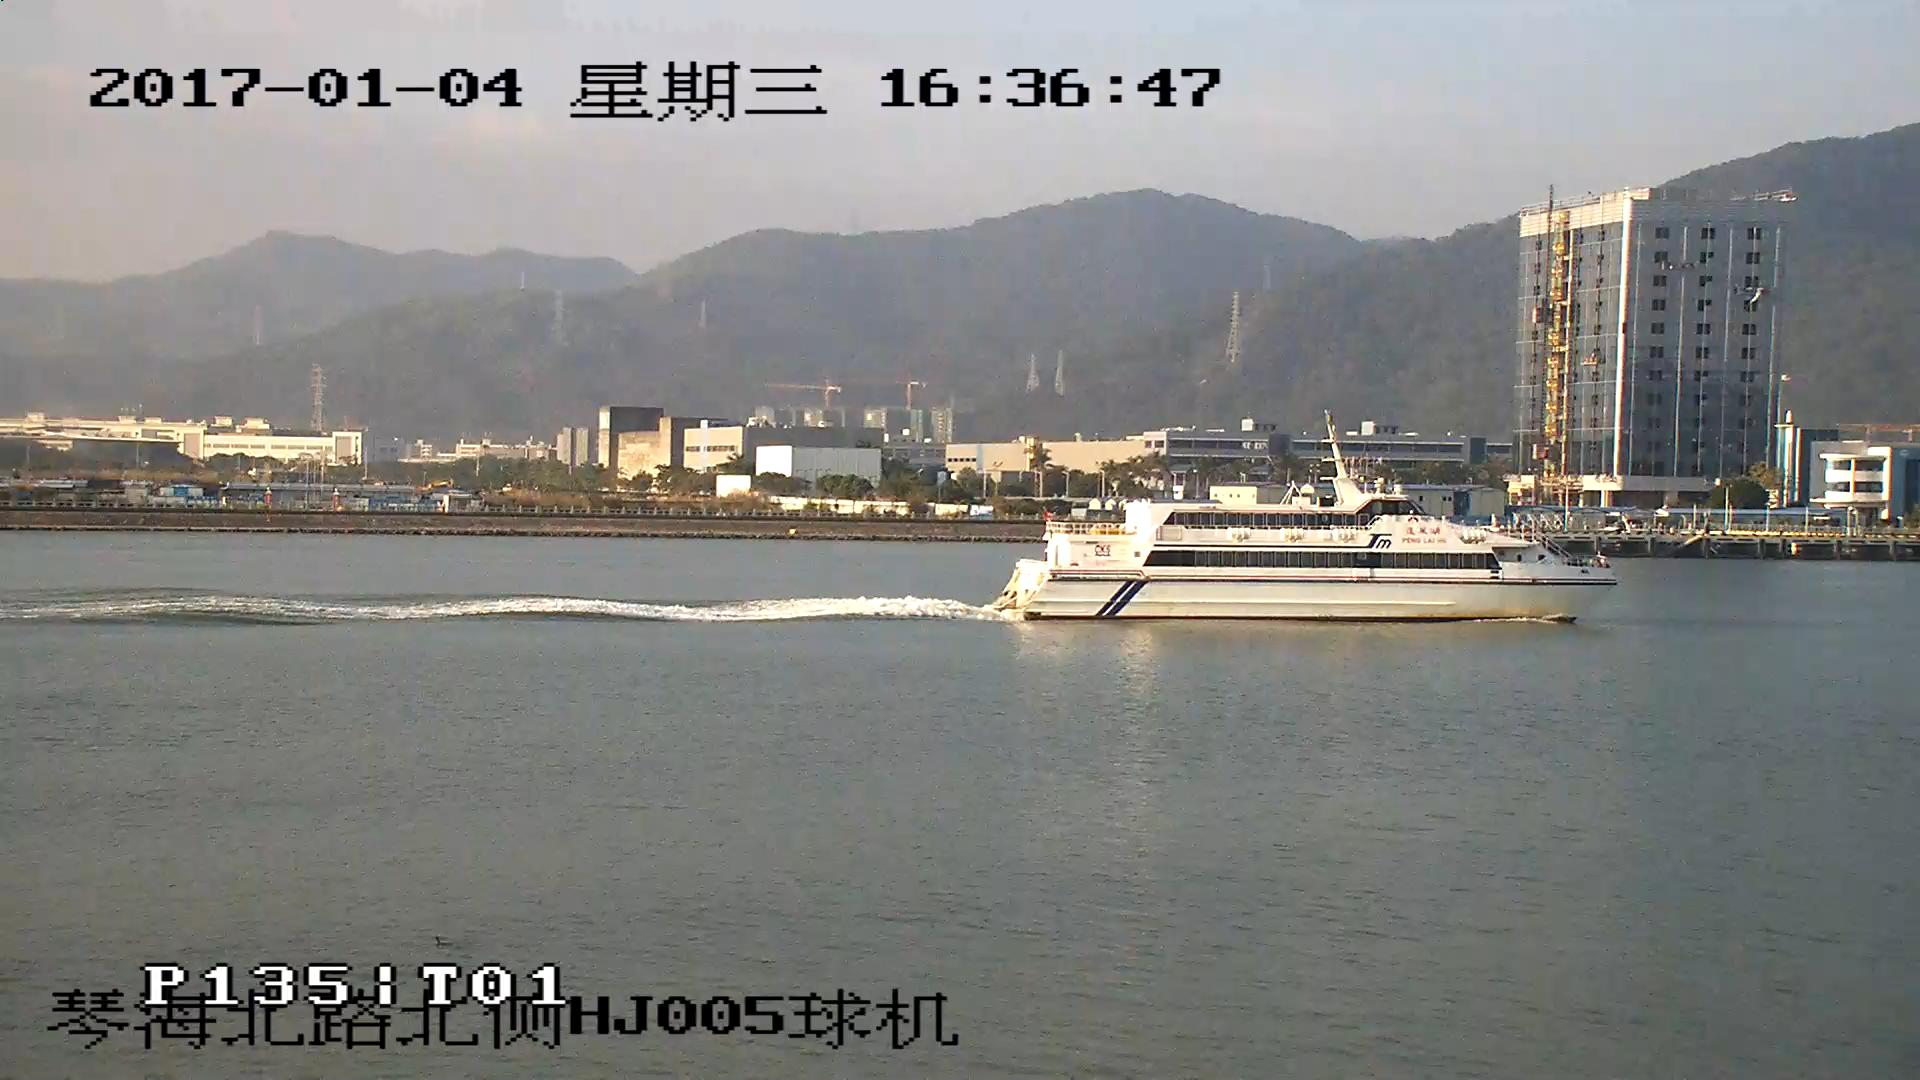passenger ship: (1002, 416, 1618, 620)
